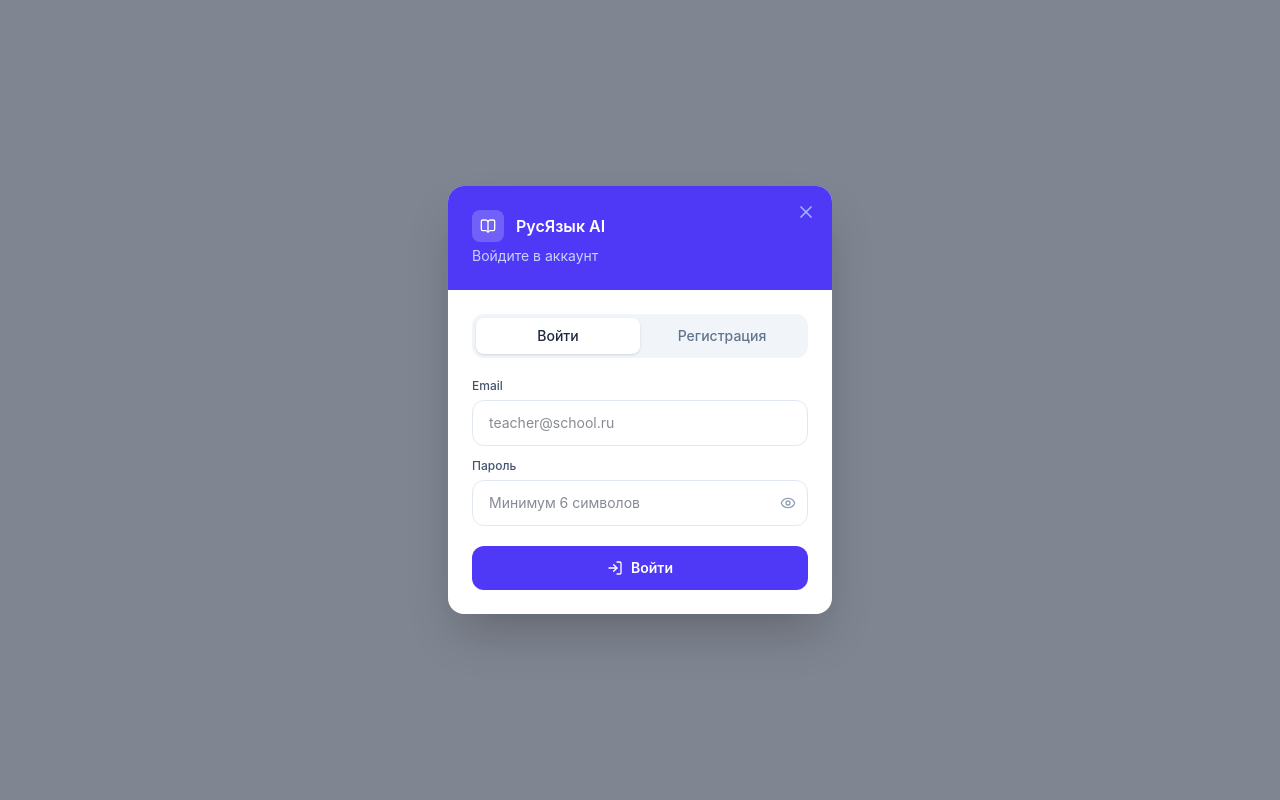
Test: AuthModal — валидация › показывает ошибку при пустых полях
Click the 2nd button "Войти" at coordinates (640, 568), box [472,546,808,590]
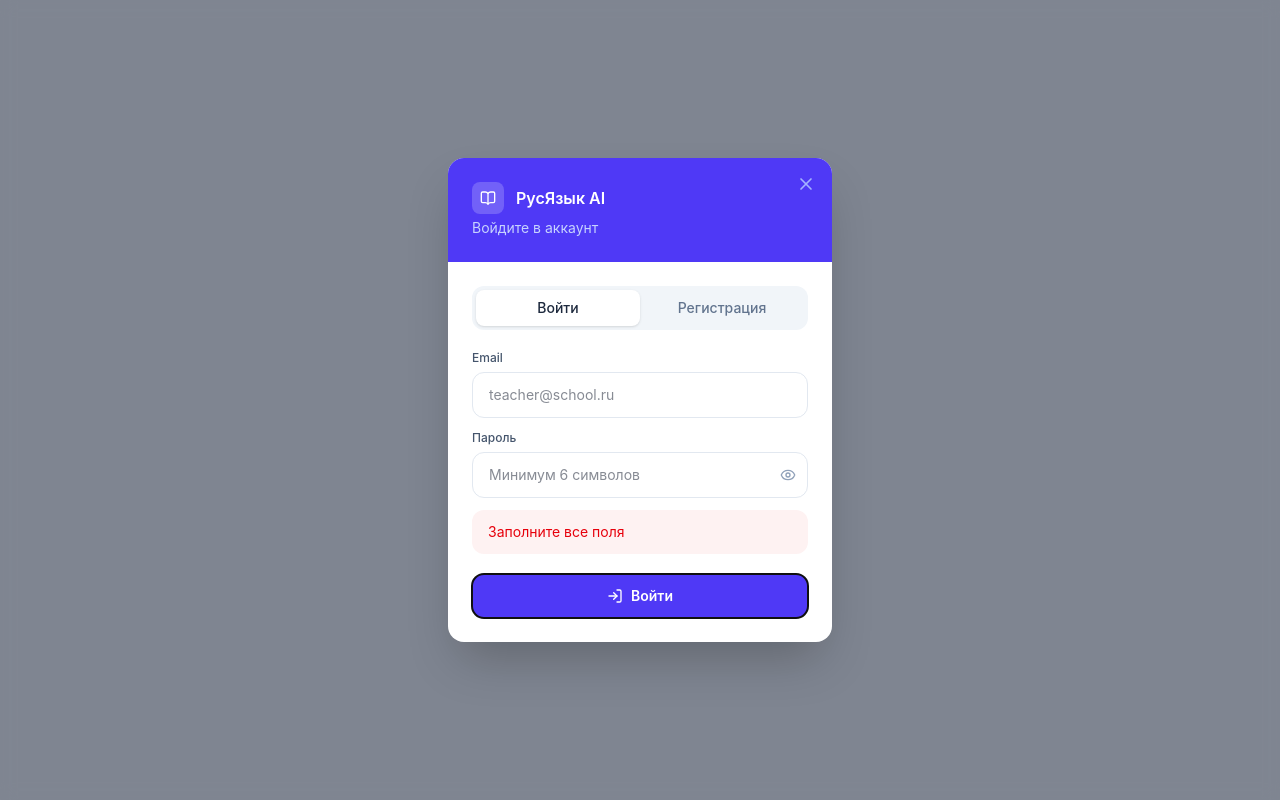
Result: the text "Заполните все поля" is shown at [472,510,808,554]
